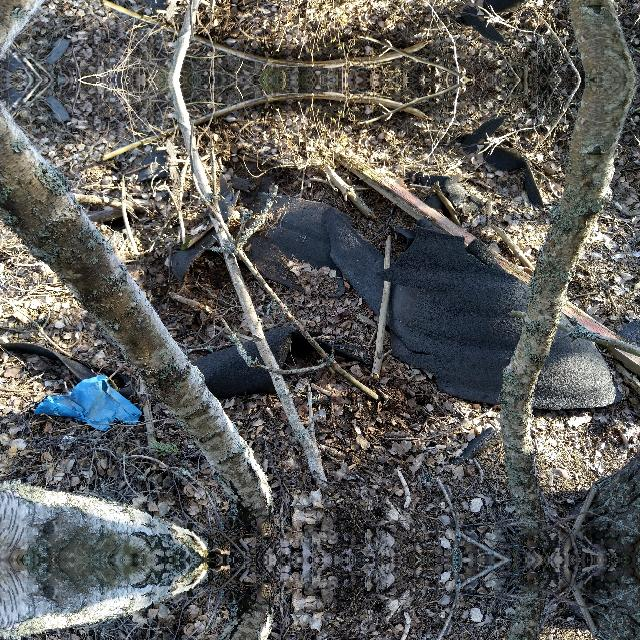Plastic: (27, 368, 149, 438)
